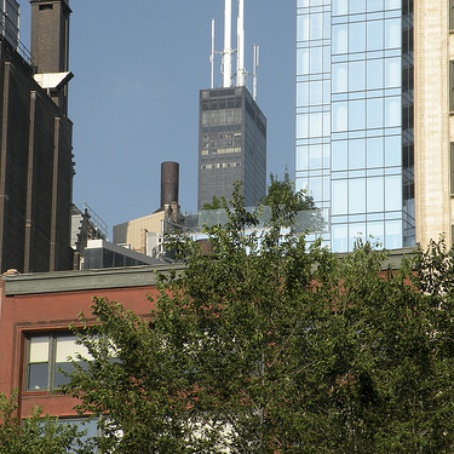building: (15, 274, 427, 454), (297, 1, 445, 251), (1, 1, 78, 269), (192, 1, 270, 220)
sky: (83, 1, 197, 201)
tree: (104, 231, 454, 454)
